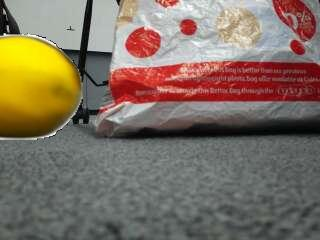lemon: (0, 36, 81, 137)
